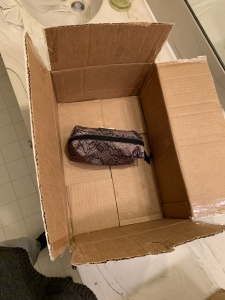innerbox: (49, 68, 181, 233)
outerbox: (29, 27, 223, 248)
product: (65, 126, 145, 164)
